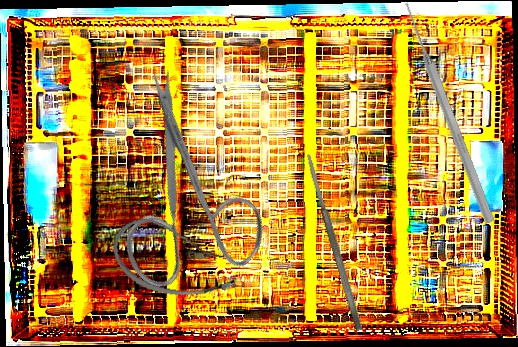Cannula: (106, 213, 245, 306)
Iris Scissors: (46, 63, 311, 324)
Pusher: (399, 0, 498, 225)
Spatula Surgical: (303, 152, 365, 332)
